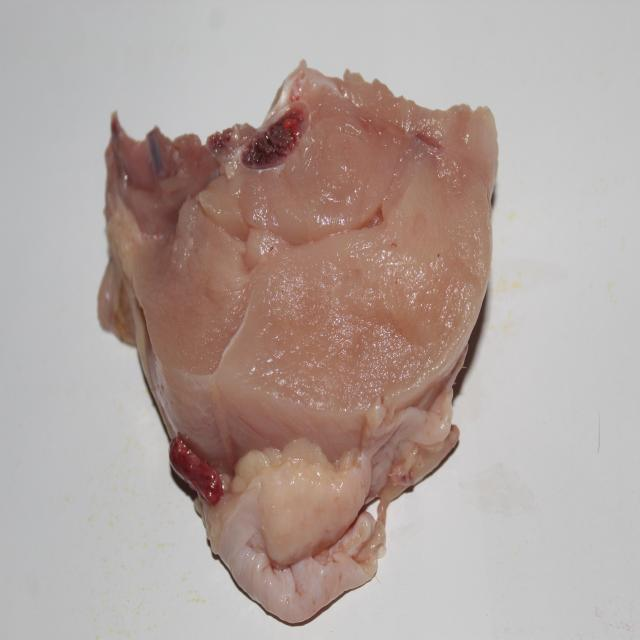chicken: (103, 70, 497, 620)
